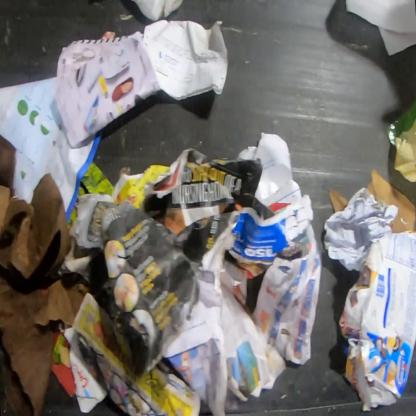cardboard: (0, 132, 90, 415), (338, 230, 415, 412), (367, 168, 415, 234)
soft_plastic: (386, 99, 415, 185)
